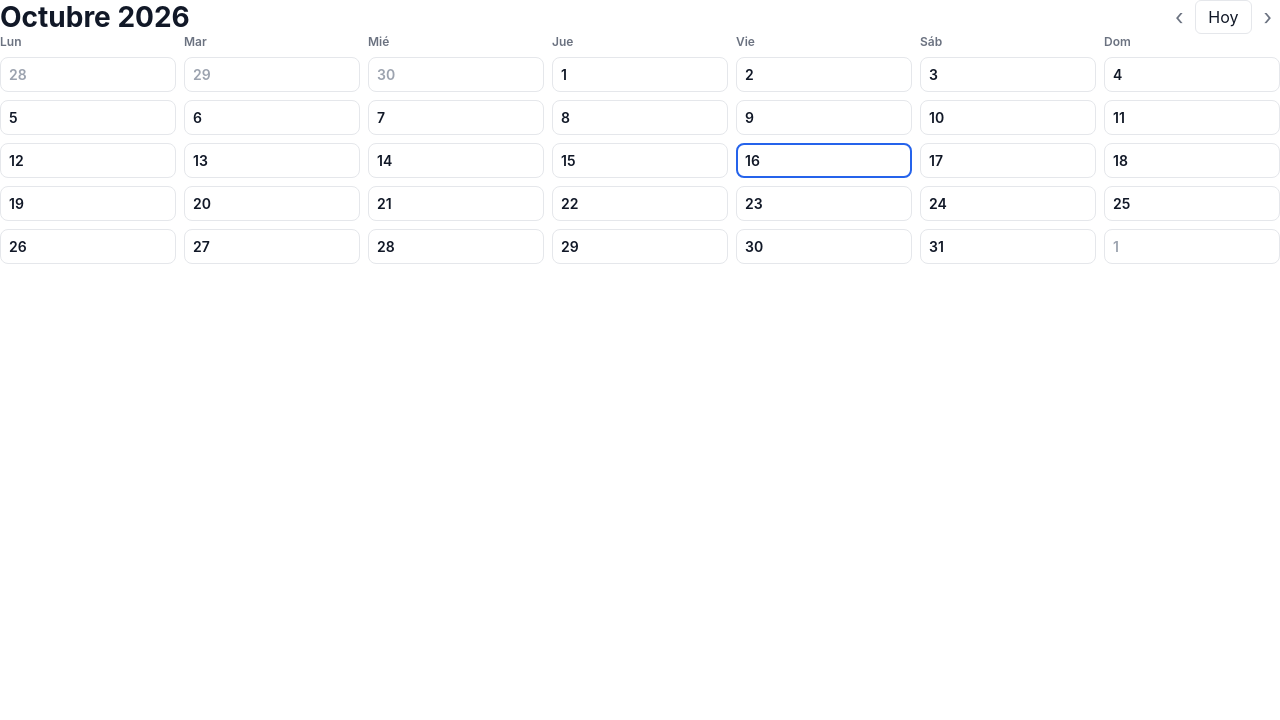
no guarda un evento sin título
Click the element showing "22": (640, 204) [552,186,728,221]
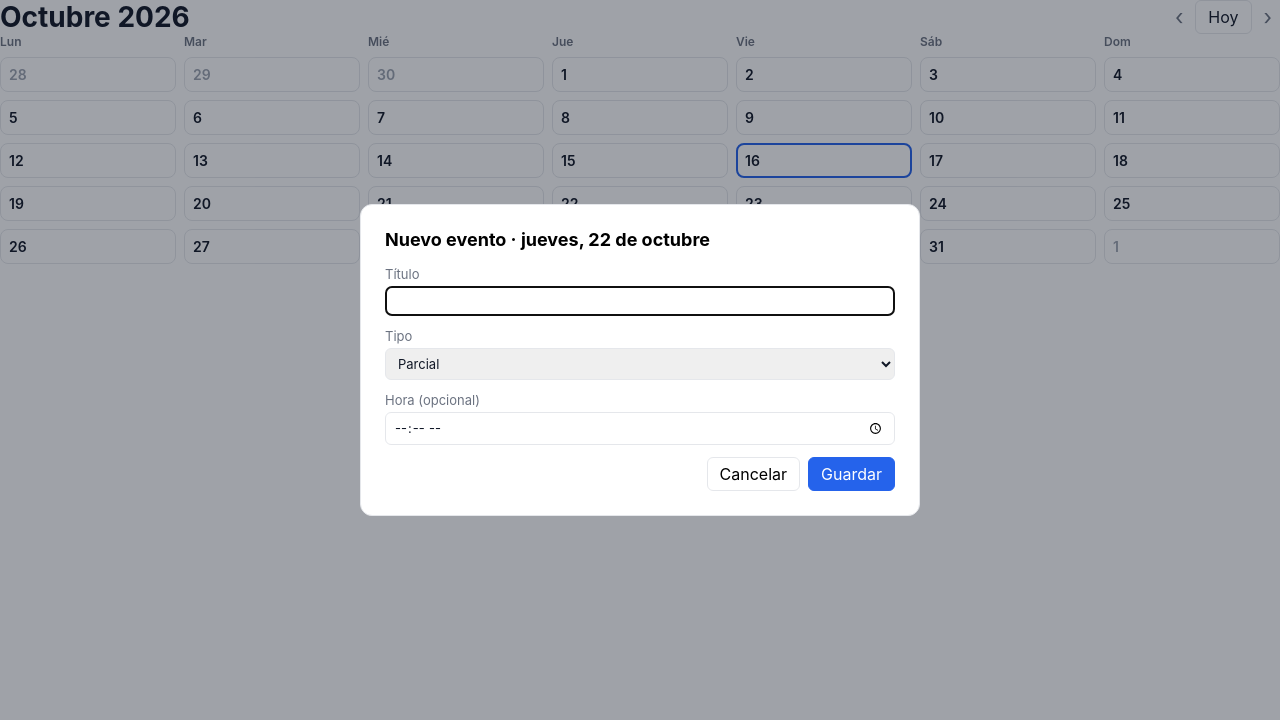
Click the button "Guardar": (852, 474) [808,457,895,491]
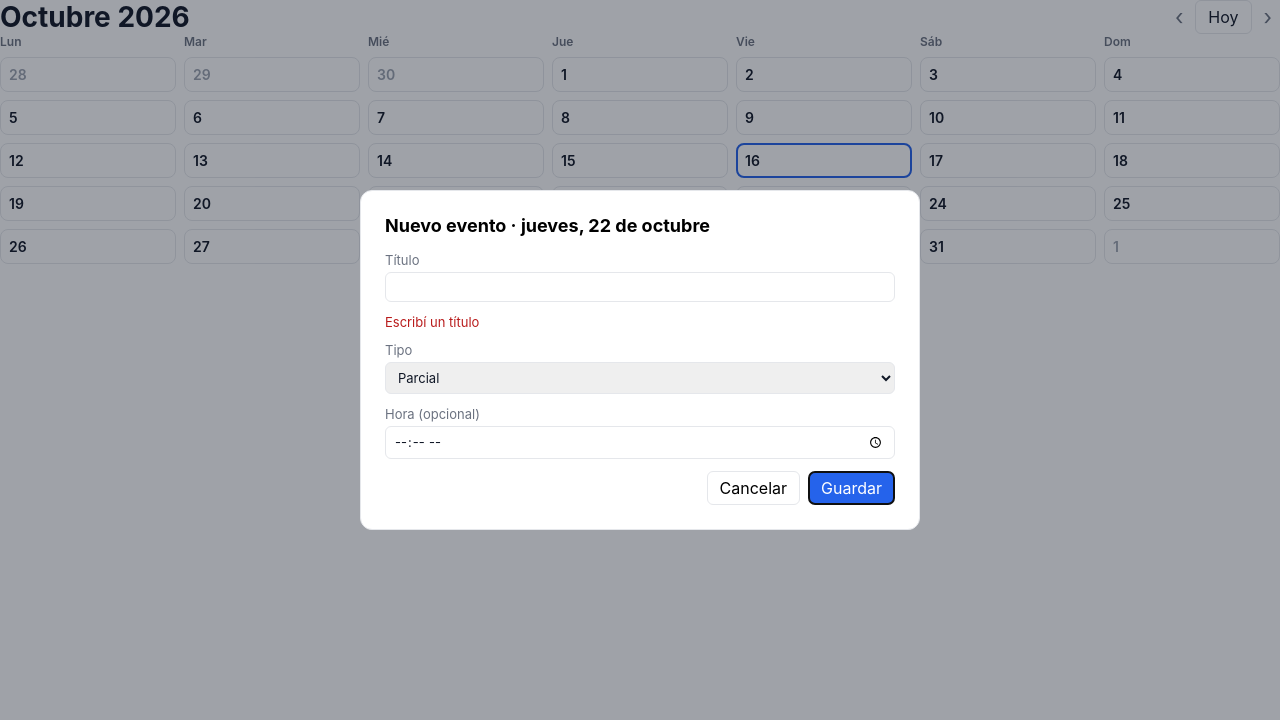
Expected: the text "Escribí un título" is shown, [385,314,479,330]
